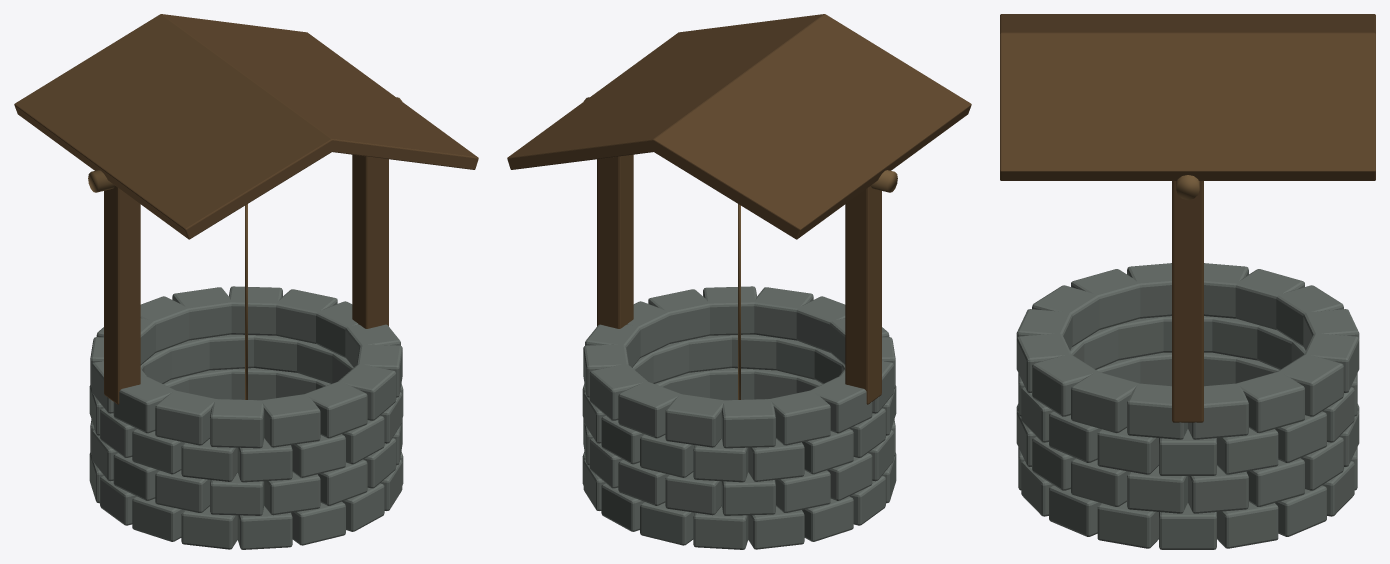
Rendered from well.glb.
3 renders of one model, left to right at view 1: azimuth 30°, elevation 25°; view 2: azimuth 150°, elevation 25°; view 3: azimuth 270°, elevation 25°, orthographic. The views are drawn at different scales.
Parts seen in each view (by area): view 1: MV_well; view 2: MV_well; view 3: MV_well.
Part boxes in pixels (x1,y1,x2,y2): MV_well: (14, 14, 478, 549); MV_well: (507, 14, 971, 549); MV_well: (1000, 14, 1375, 549).
Bounding box in the file's own units: 1.84 × 2.35 × 1.79.
